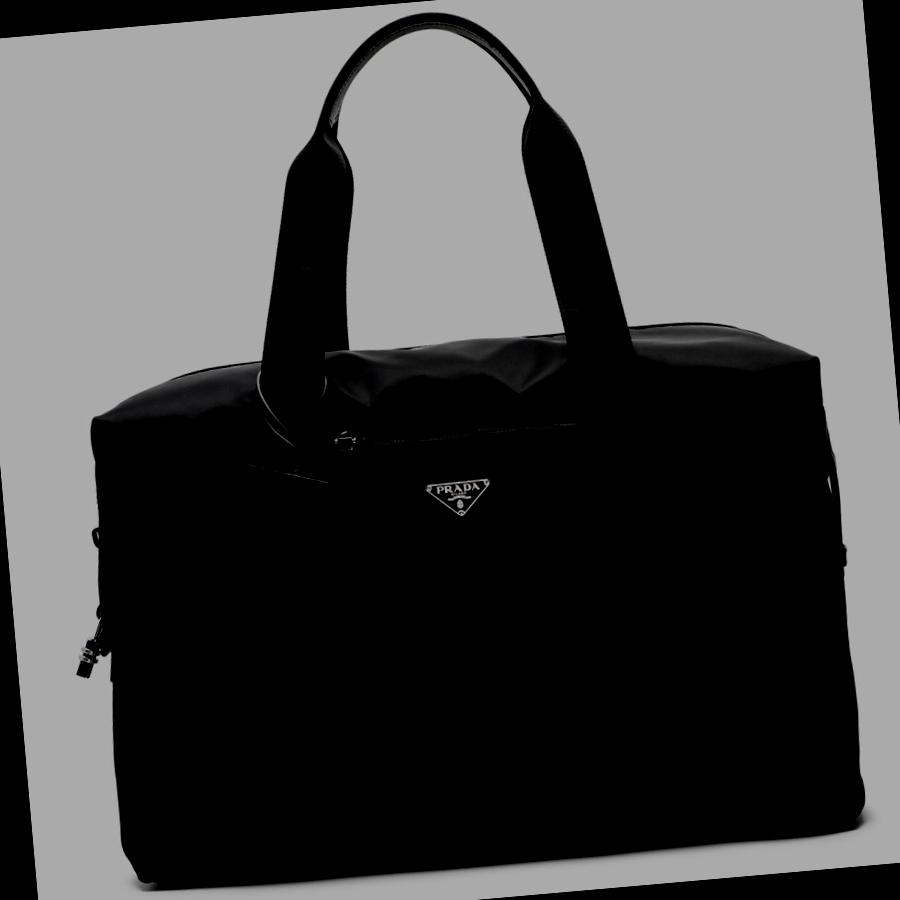PRADA: (424, 478, 494, 520)
